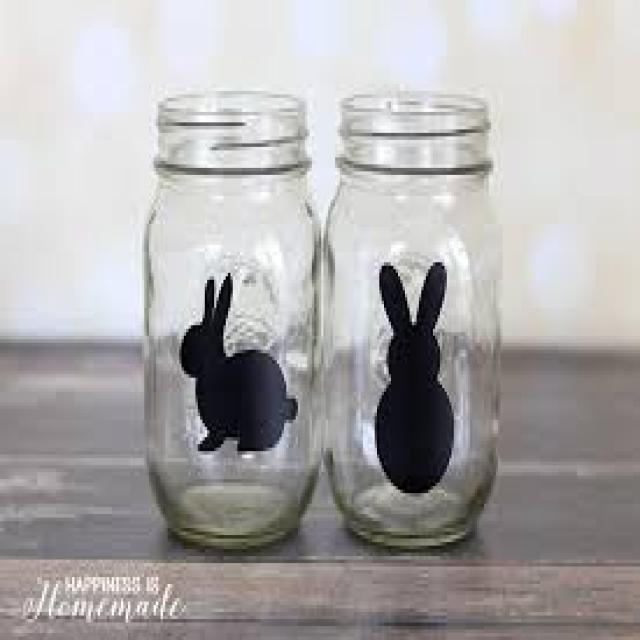glass: (312, 91, 496, 546), (142, 91, 319, 546)
